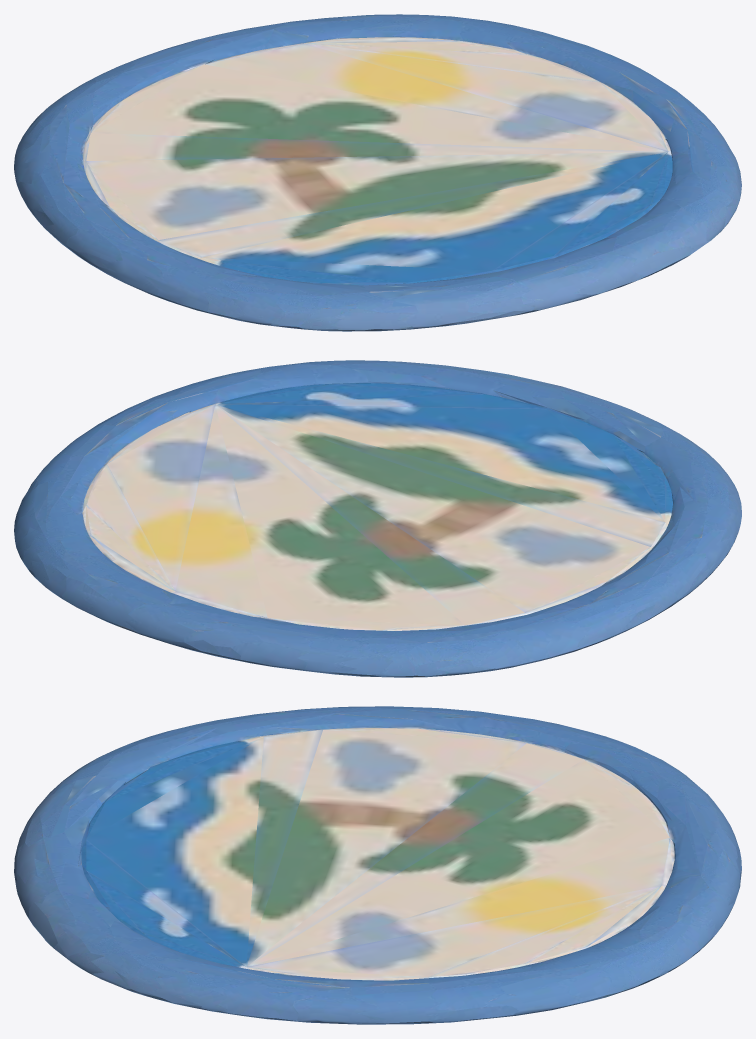
The model's file is rug-round.glb.
3 views of the same model, one above another, from view 1: azimuth 30°, elevation 25°; view 2: azimuth 150°, elevation 25°; view 3: azimuth 270°, elevation 25° (orthographic). The views are drawn at different scales.
Parts seen in each view (by area): view 1: rug-round-fit; view 2: rug-round-fit; view 3: rug-round-fit.
Boxes of the visible parts, <box> form: rug-round-fit: <box>14,14,741,331</box>; rug-round-fit: <box>14,360,741,677</box>; rug-round-fit: <box>14,706,741,1024</box>.
Bounding box in the file's own units: 2.6 × 0.1135 × 2.6.
1 material, 1 textured.
